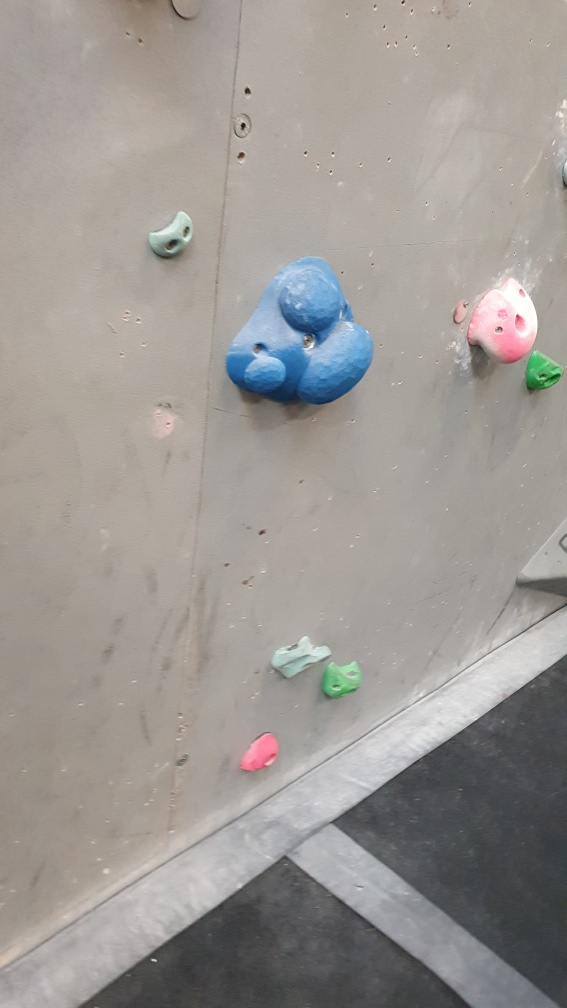Sloper: (224, 254, 378, 410)
